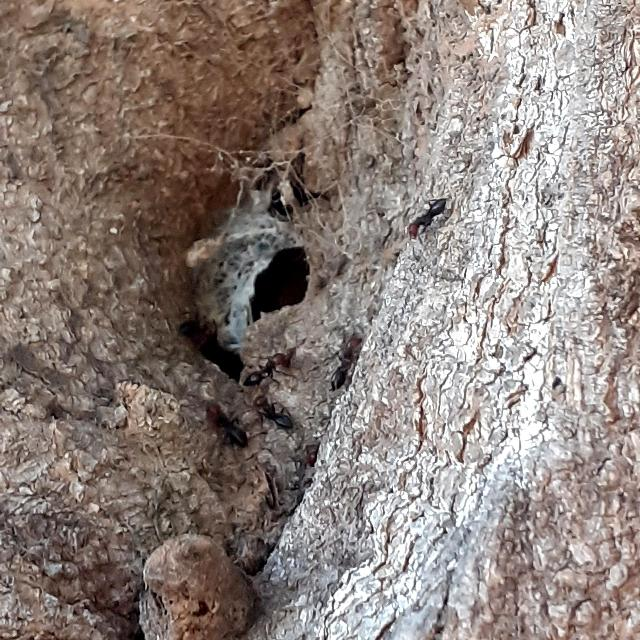Crematogaster: (322, 328, 372, 392), (194, 400, 248, 452), (400, 194, 452, 240), (247, 387, 297, 428), (247, 340, 296, 380)
